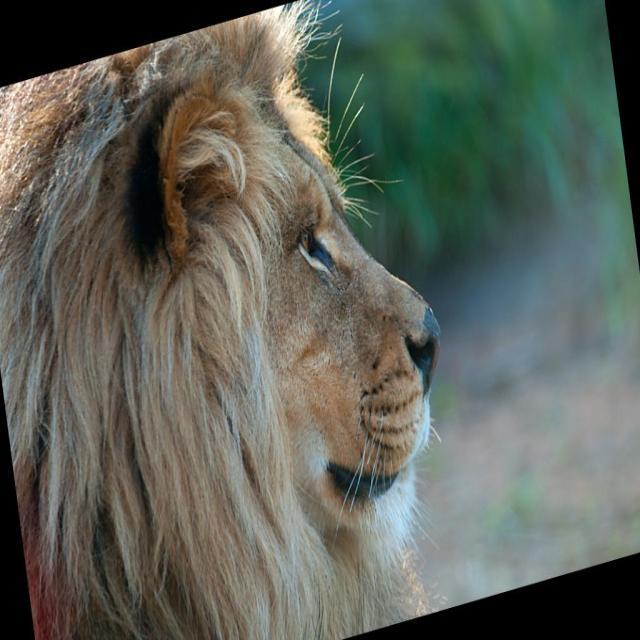Lion: (0, 0, 476, 639)
